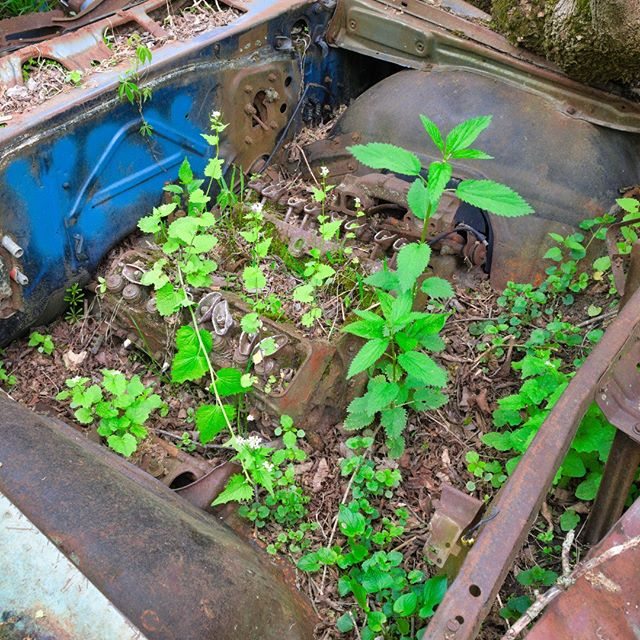motor: (85, 140, 444, 480)
vegetation: (51, 100, 510, 579)
